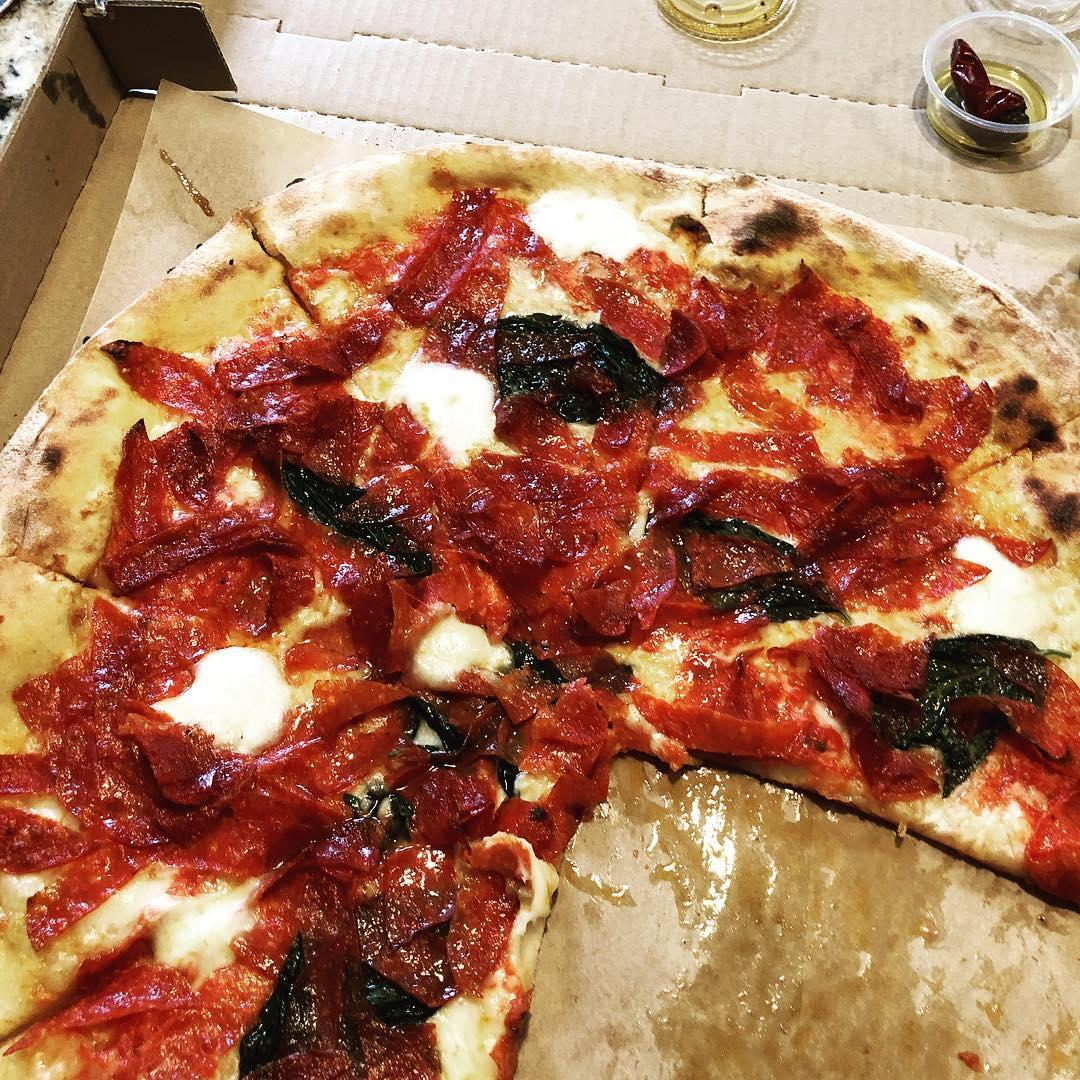Basil: (860, 630, 1072, 783), (233, 930, 448, 1080), (653, 492, 848, 637), (263, 452, 428, 577), (498, 298, 660, 418)
Cheese: (513, 182, 687, 273), (153, 647, 287, 755), (100, 875, 254, 966), (382, 360, 495, 467), (942, 533, 1040, 652), (398, 617, 518, 692)
Pizza: (0, 163, 1080, 1080)
